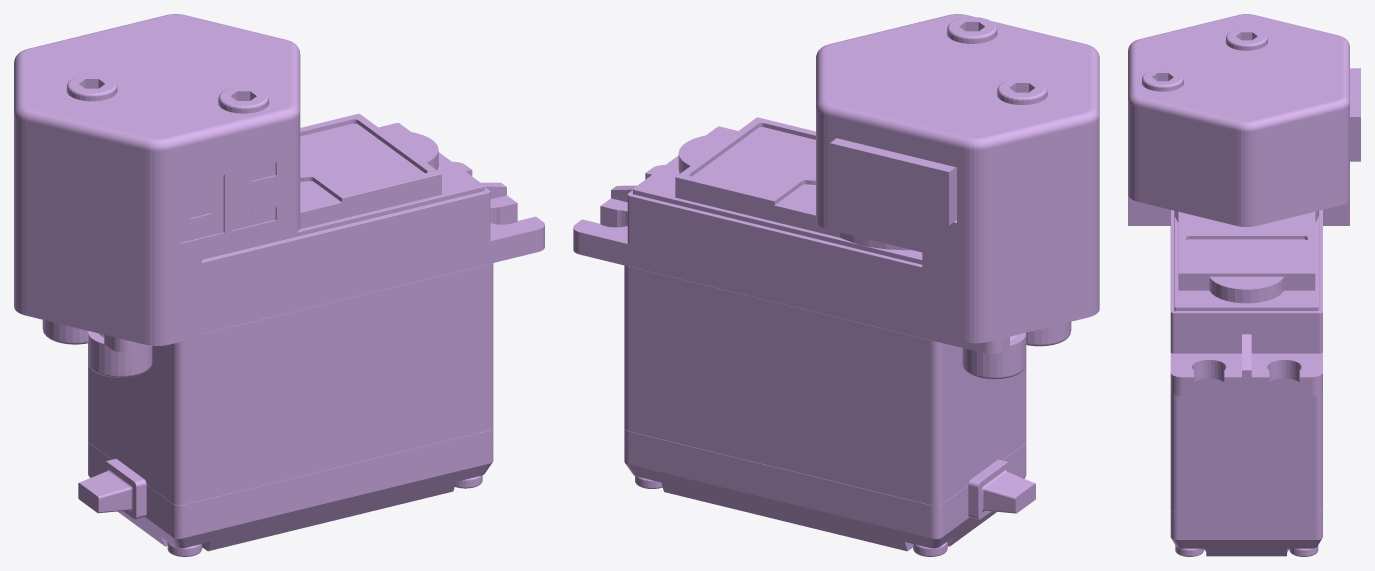
Rendered from PixelDrop.gltf.
The picture shows the model from 3 angles, left to right: view 1: azimuth 30°, elevation 25°; view 2: azimuth 150°, elevation 25°; view 3: azimuth 270°, elevation 25°; orthographic projection. The views are drawn at different scales.
Bounding box in the file's own units: 0.0613 × 0.0549 × 0.0306.
